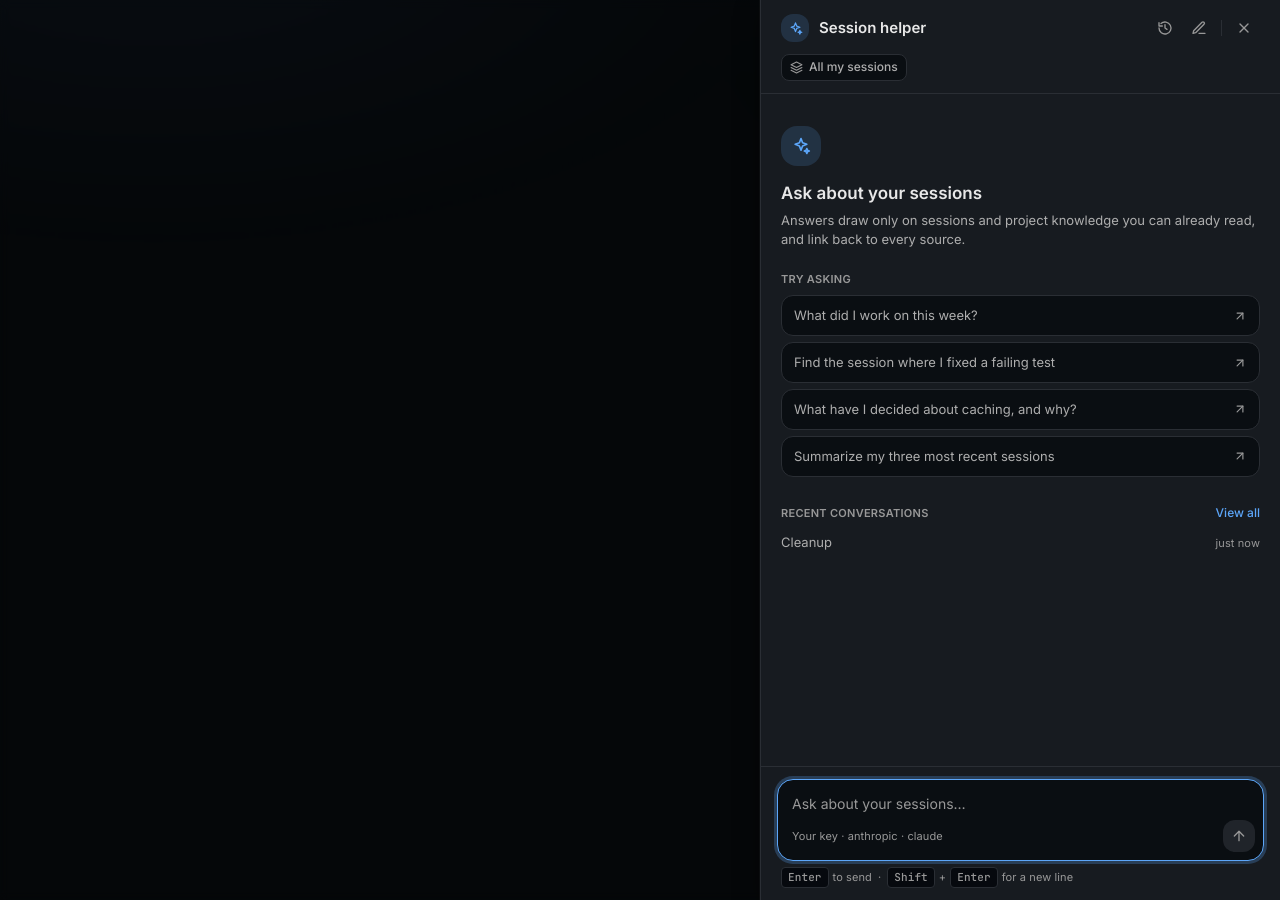
Test: HelperPanel — write actions › recovers a ticket proposal with the right action kind
The width and height of the screenshot is (1280, 900).
Click the button "Cleanup just now".
click(806, 542)  # box [773,527,1268,558]
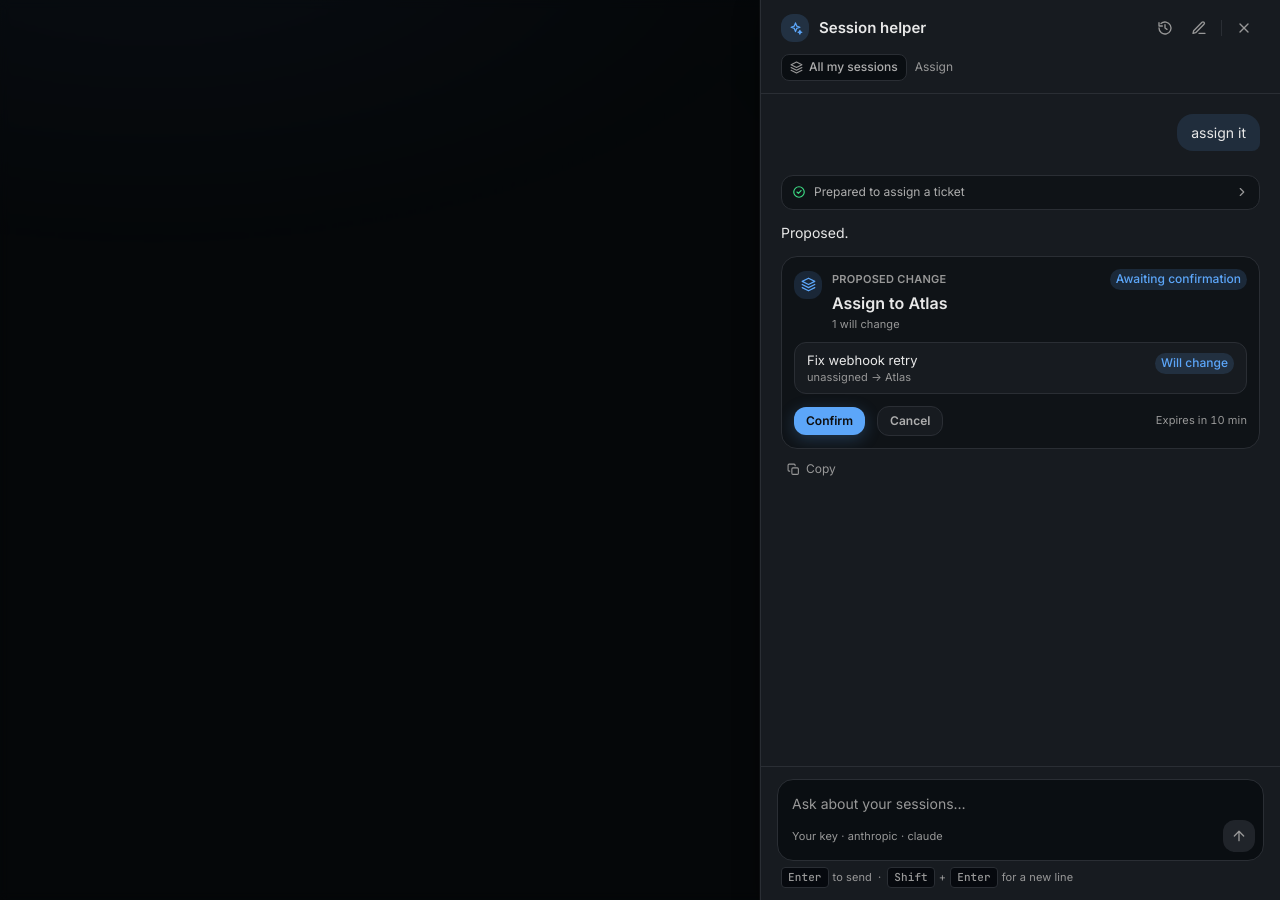
Check: the heading "Assign to Atlas" is shown, box [832,293,948,313]
Check: the text "unassigned → Atlas" is shown, box [807,370,911,384]
